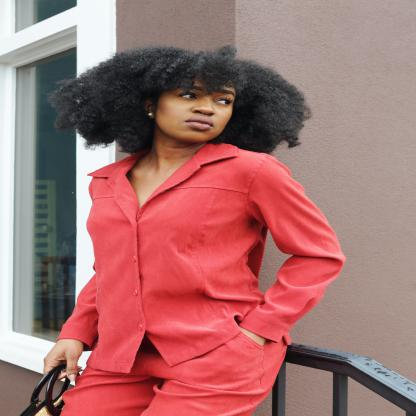Eye: (176, 90, 199, 102), (212, 98, 232, 106)
Mouth: (183, 115, 216, 130)
Nose: (191, 99, 215, 116)
